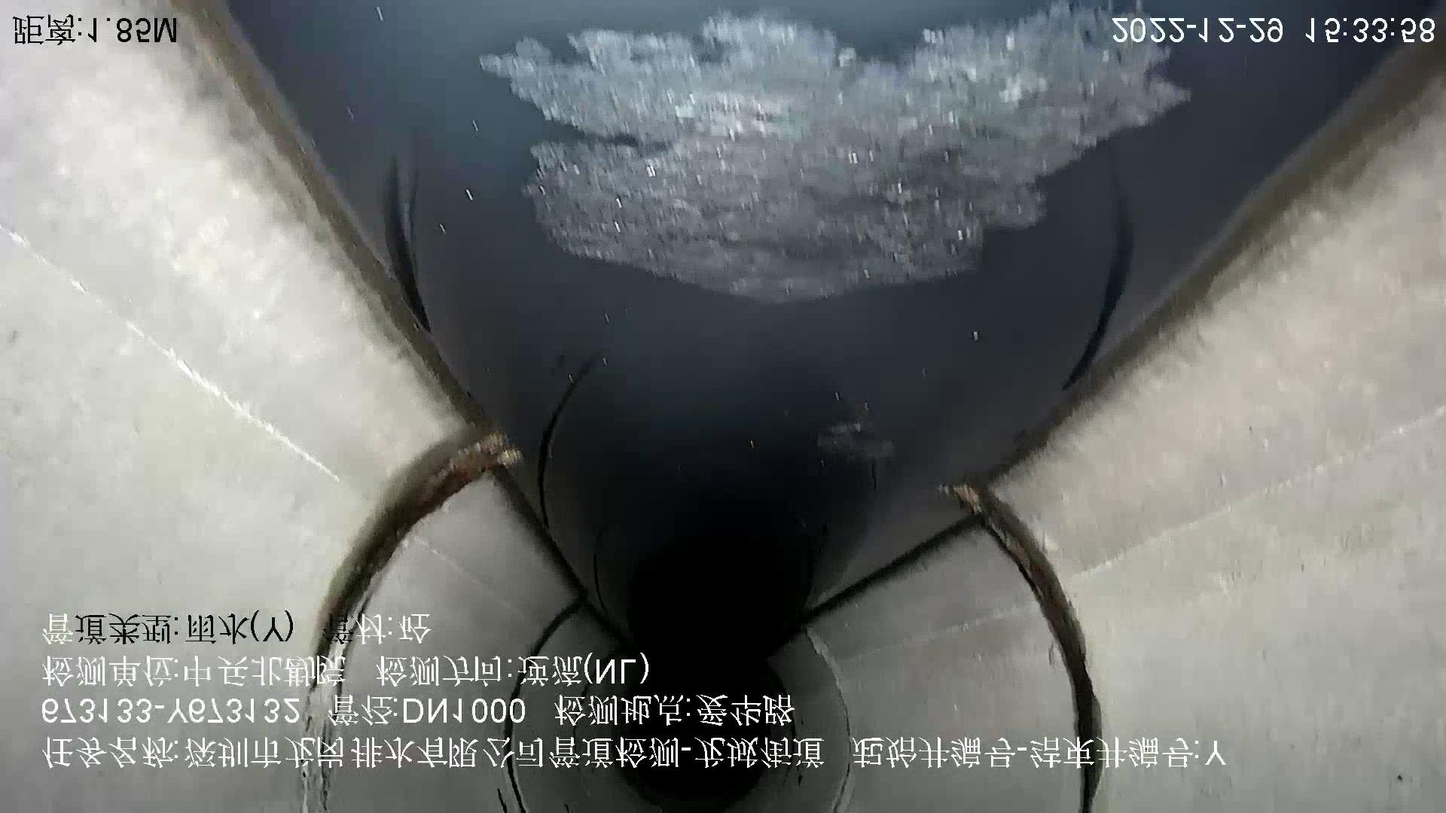FZ: (481, 1, 1188, 303)
